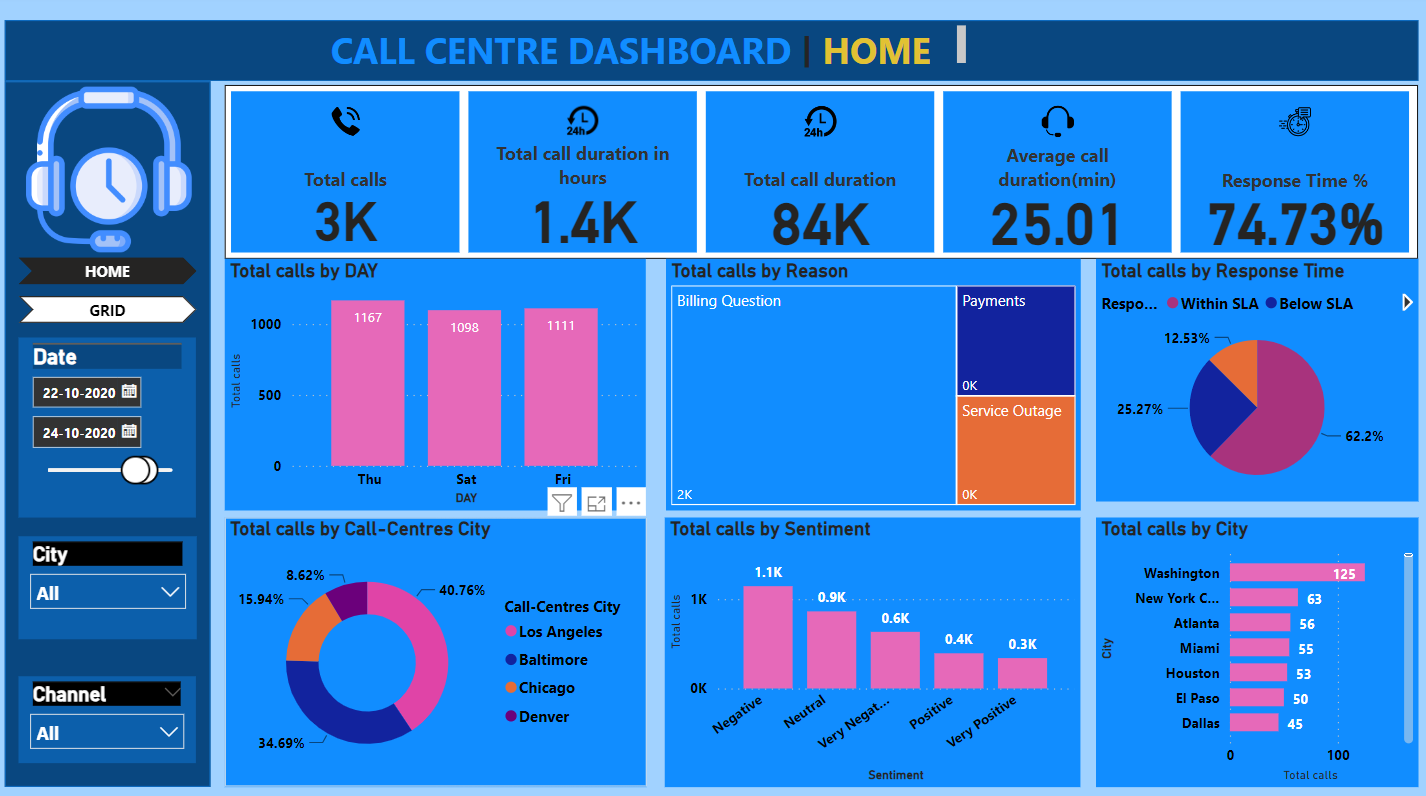

The page's visual inventory and layout, read from the dashboard file:
{"tool":"powerbi","page":{"name":"HOME","canvas":[1280,720],"ordinal":0},"visuals":[{"type":"shape","box":[8.1,22.1,1262.8,54.7],"z":0},{"type":"shape","box":[8.1,76.7,183.7,630.2],"z":1000},{"type":"cardVisual","fields":{"Data":["Call Center_Call Center.Total calls","Call Center_Call Center.Total call duration in hours","Call Center_Call Center.Total call duration","Call Center_Call Center.Averafe call duration(min)","Call Center_Call Center.Response Time %"]},"box":[204.6,80.3,1065.9,154.9],"z":2000},{"type":"textbox","box":[269.8,22.1,601.2,47.7],"z":3000},{"type":"columnChart","fields":{"Category":["date Table.DAY"],"Y":["Call Center_Call Center.Total calls"]},"box":[204.6,235.1,376.4,224.9],"z":4000},{"type":"treemap","fields":{"Group":["Call Center_Call Center.Reason","Call Center_Call Center.Channel"],"Values":["Call Center_Call Center.Total calls"]},"box":[597.9,235.1,370.7,224.9],"z":5000},{"type":"donutChart","fields":{"Y":["Call Center_Call Center.Total calls"],"Category":["Call Center_Call Center.Call-Centres City"]},"box":[204.7,466.3,376.7,240.7],"z":6000},{"type":"columnChart","fields":{"Category":["Call Center_Call Center.Sentiment"],"Y":["Call Center_Call Center.Total calls"]},"box":[597.7,466.3,370.9,240.7],"z":7000},{"type":"barChart","fields":{"Y":["Call Center_Call Center.Total calls"],"Category":["Call Center_Call Center.City"]},"box":[982.6,466.3,288.4,240.7],"z":8000},{"type":"pieChart","fields":{"Category":["Call Center_Call Center.Response Time"],"Y":["Call Center_Call Center.Total calls"]},"box":[982.2,235.1,288.2,217],"z":9000},{"type":"slicer","fields":{"Values":["date Table.Date"]},"box":[20.1,305.9,158.5,160.7],"z":10000},{"type":"slicer","fields":{"Values":["Call Center_Call Center.City"]},"box":[19.8,483.7,159.3,91.9],"z":11000},{"type":"slicer","fields":{"Values":["Call Center_Call Center.Channel"]},"box":[19.8,608.1,158.1,77.9],"z":12000},{"type":"image","box":[20.9,76.7,159.3,158.1],"z":13000},{"type":"pageNavigator","box":[19.8,234.9,159.3,58.1],"z":14000}]}

Visuals, with their boxes in screenshot pixels (x1, y1, x2, y2), scaled from the page's 1280x720 canvas onto the 1426x796 screenshot:
shape: (9, 24, 1416, 85)
shape: (9, 85, 214, 782)
cardVisual - Call Center_Call Center.Total calls x Call Center_Call Center.Total call duration in hours: (228, 89, 1415, 260)
textbox: (301, 24, 970, 77)
columnChart - date Table.DAY x Call Center_Call Center.Total calls: (228, 260, 647, 509)
treemap - Call Center_Call Center.Reason x Call Center_Call Center.Channel: (666, 260, 1079, 509)
donutChart - Call Center_Call Center.Total calls x Call Center_Call Center.Call-Centres City: (228, 516, 648, 782)
columnChart - Call Center_Call Center.Sentiment x Call Center_Call Center.Total calls: (666, 516, 1079, 782)
barChart - Call Center_Call Center.Total calls x Call Center_Call Center.City: (1095, 516, 1416, 782)
pieChart - Call Center_Call Center.Response Time x Call Center_Call Center.Total calls: (1094, 260, 1415, 500)
slicer - date Table.Date: (22, 338, 199, 516)
slicer - Call Center_Call Center.City: (22, 535, 200, 636)
slicer - Call Center_Call Center.Channel: (22, 672, 198, 758)
image: (23, 85, 201, 260)
pageNavigator: (22, 260, 200, 324)
